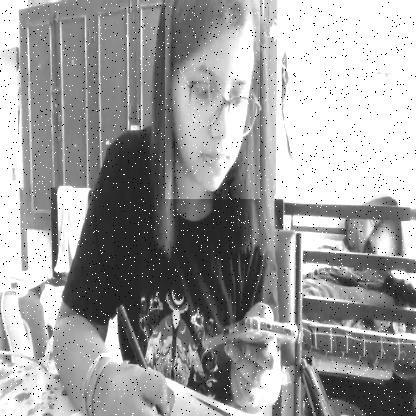Distracted: (165, 0, 260, 199)
